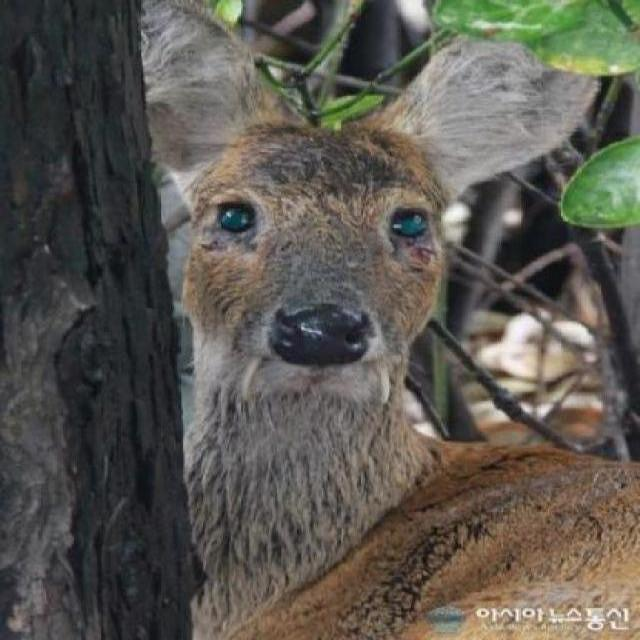deer: (132, 0, 640, 603)
